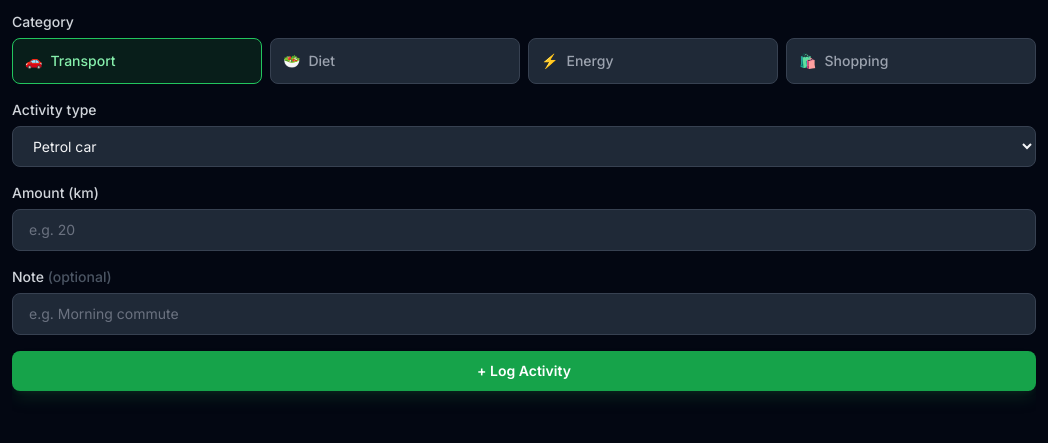
Scenario: ActivityForm › shows validation error if amount is empty or 0
The width and height of the screenshot is (1048, 443).
Click the button "+ Log Activity" at coordinates (524, 371), box x1=12 y1=351 x2=1036 y2=391
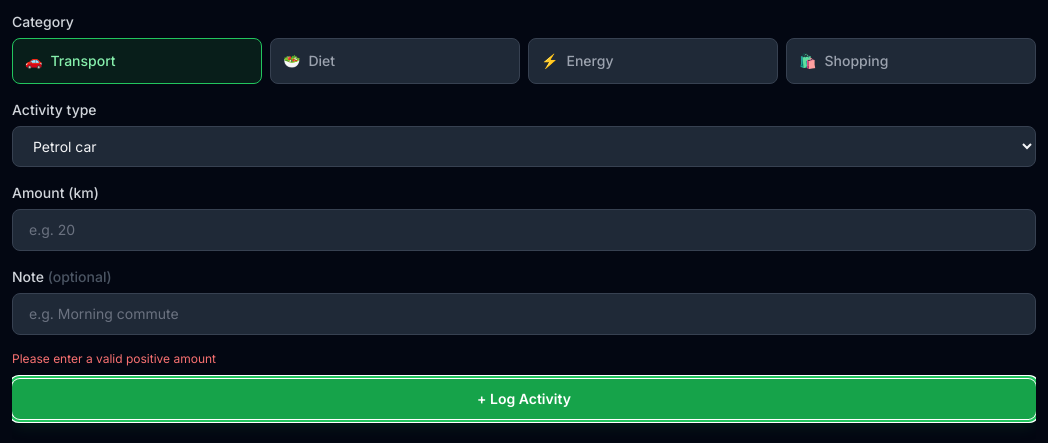
Check: the message "Please enter a valid positive amount" is shown, box x1=12 y1=351 x2=216 y2=366
